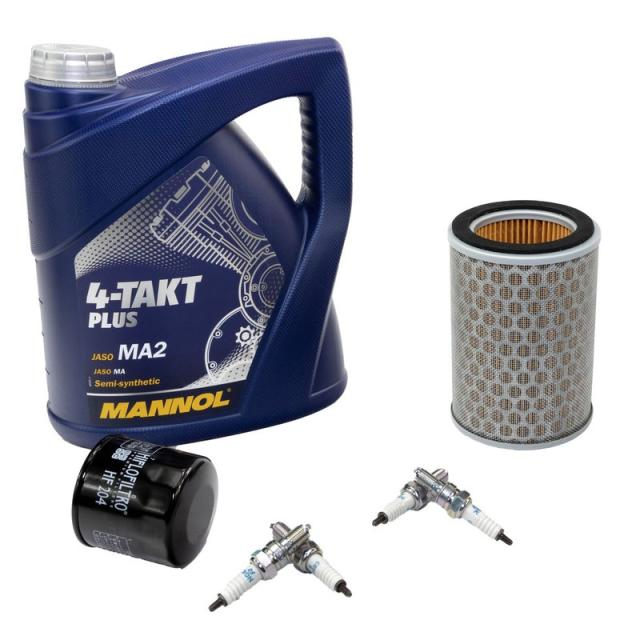motor_oil: (0, 31, 356, 445)
oil_filter: (444, 193, 606, 451), (68, 433, 220, 573)
